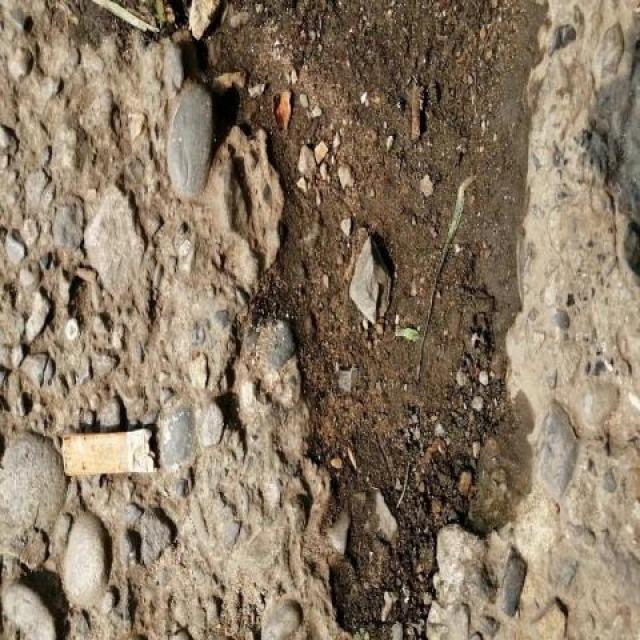non-organic waste: (58, 424, 163, 484)
